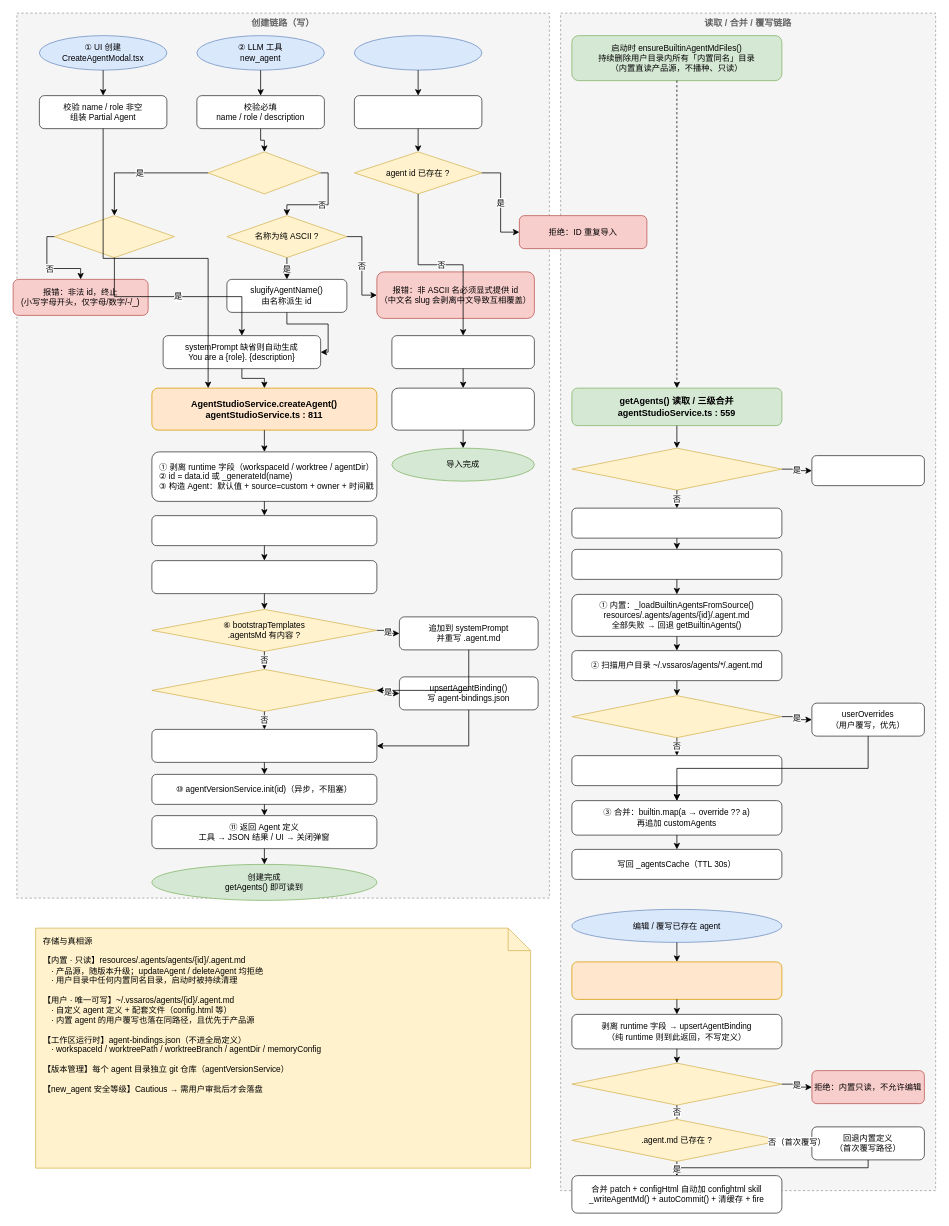
The diagram is 949 pixels wide and 1226 high, and some of its shapes have lost their labels. Each missing label, with the centre of its shape:
"30s 缓存命中 ?" belongs at (x=676, y=468).
"_loadAgentsInternal()" belongs at (x=676, y=564).
"customAgents（自定义）" belongs at (x=676, y=770).
"id 属于内置 ID 集合 ?" belongs at (x=676, y=716).
"id 是内置 agent ?" belongs at (x=676, y=1083).
"in-flight 去重：复用 _agentsLoadPromise" belongs at (x=676, y=522).
"isValidSkillId ?" belongs at (x=114, y=236).
"updateAgent(id, patch) agentStudioService.ts : 1205" belongs at (x=676, y=980).
"③ 文件夹导入 installAgentFromFolder" belongs at (x=418, y=52).
"④ ensure 目录 ~/.vssaros/agents/{id}/" belongs at (x=264, y=530).
"⑤ _writeAgentMd() → .agent.md （YAML frontmatter + Markdown body）" belongs at (x=264, y=577).
"⑦ 传入了 workspaceId ?" belongs at (x=264, y=690).
"⑧ 清 _agentsCache ⑨ _onDidChangeAgents.fire()" belongs at (x=264, y=745).
"整体复制到 ~/.vssaros/agents/{id}/" belongs at (x=462, y=352).
"显式传入 id ?" belongs at (x=264, y=172).
"清 _agentsCache _onDidChangeAgents.fire() agentVersionService.init(id)" belongs at (x=462, y=408).
"直接返回缓存数据" belongs at (x=867, y=470).
"过滤垃圾文件（.git / node_modules） 根目录须含 .agent.md" belongs at (x=418, y=112).
